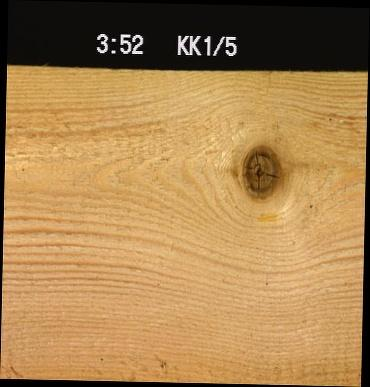sound_knot: (238, 142, 281, 201)
